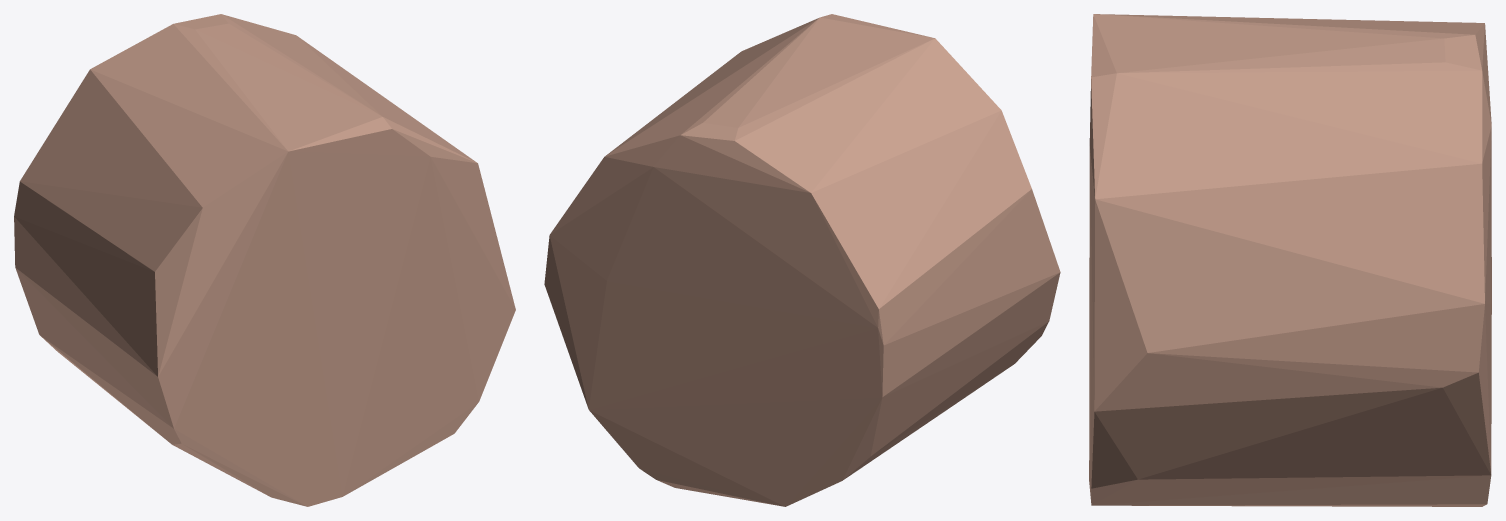
File: paint_container_jar_orange_a01.glb
The picture shows the model from 3 angles, left to right: view 1: azimuth 30°, elevation 25°; view 2: azimuth 150°, elevation 25°; view 3: azimuth 270°, elevation 25°; orthographic projection. The views are drawn at different scales.
Visible parts, largest first — view 1: geometry_0; view 2: geometry_0; view 3: geometry_0.
Boxes of the visible parts, x1=… form: geometry_0: x1=14, y1=14, x2=515, y2=506; geometry_0: x1=544, y1=14, x2=1060, y2=506; geometry_0: x1=1089, y1=14, x2=1491, y2=506.
Size of the model in its own units: 0.478 by 0.4711 by 0.3802.
